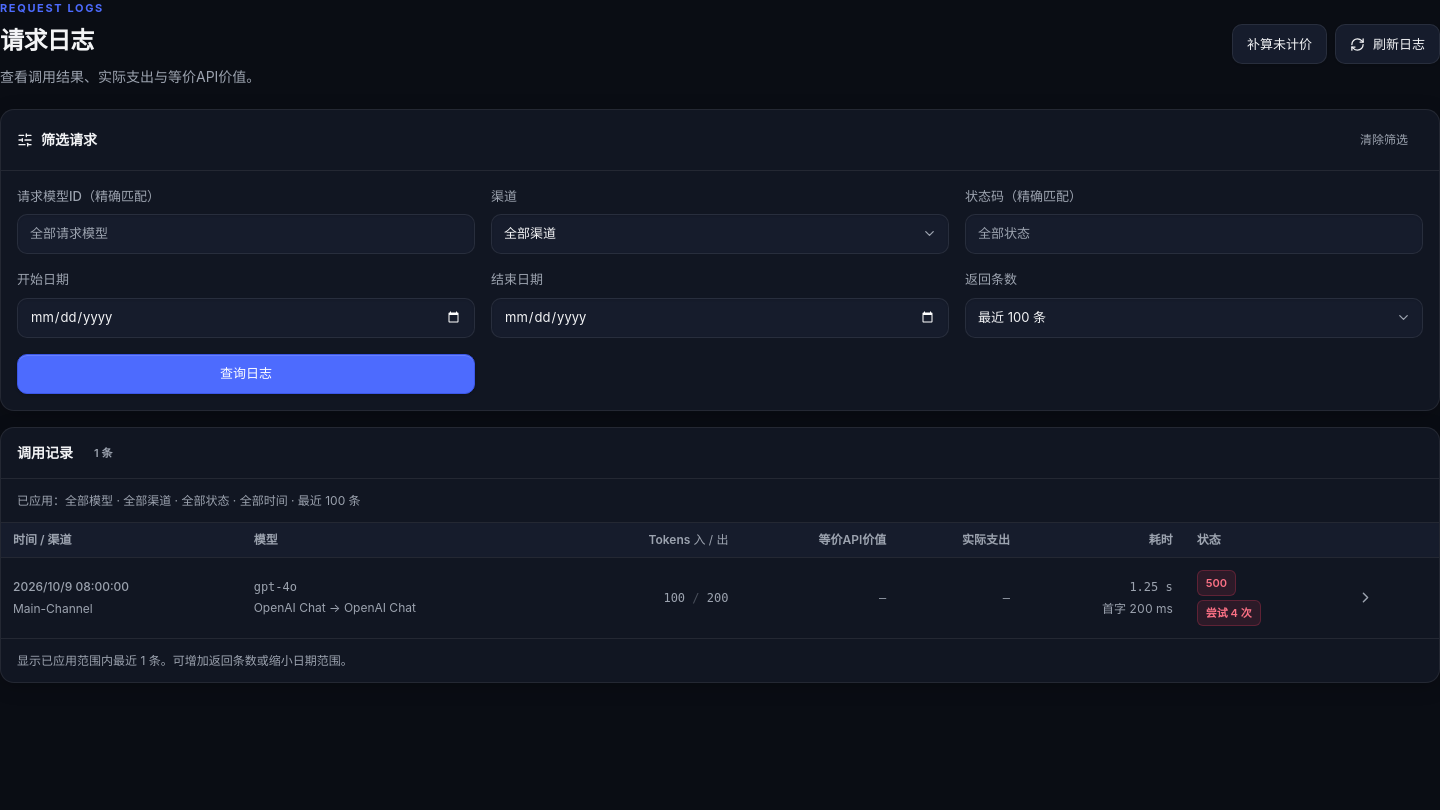
Test case: Logs - Request Attempt & Switch Logs (T046) › correctly maps all action labels and status code tones in attempt trace
Click the button named "查看请求 99 详情" at (1366, 598), box [1348,580,1384,616]
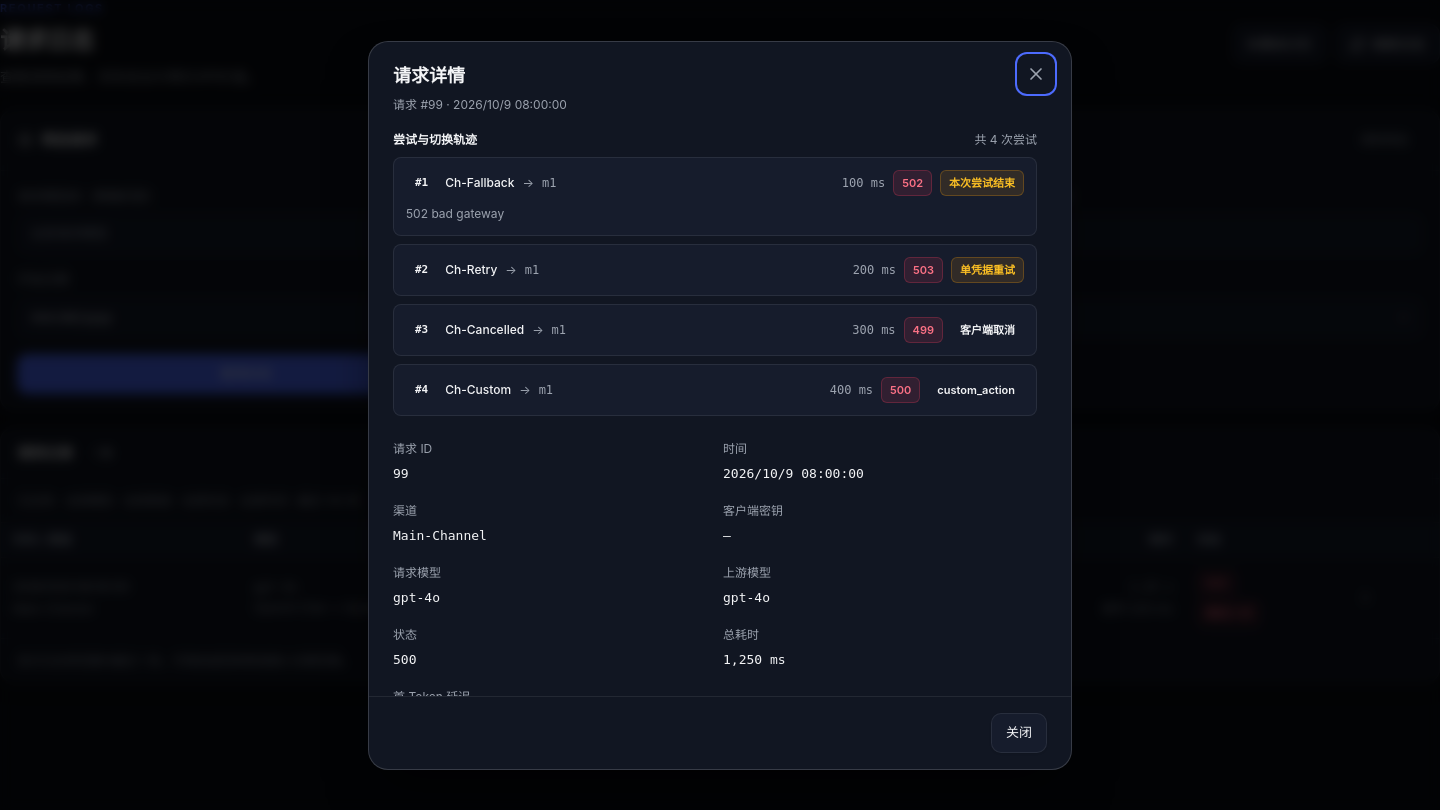
Check: the text "本次尝试结束" is shown, box [940,170,1024,196]
Check: the text "单凭据重试" is shown, box [951,257,1024,283]
Check: the text "客户端取消" is shown, box [960,323,1015,337]
